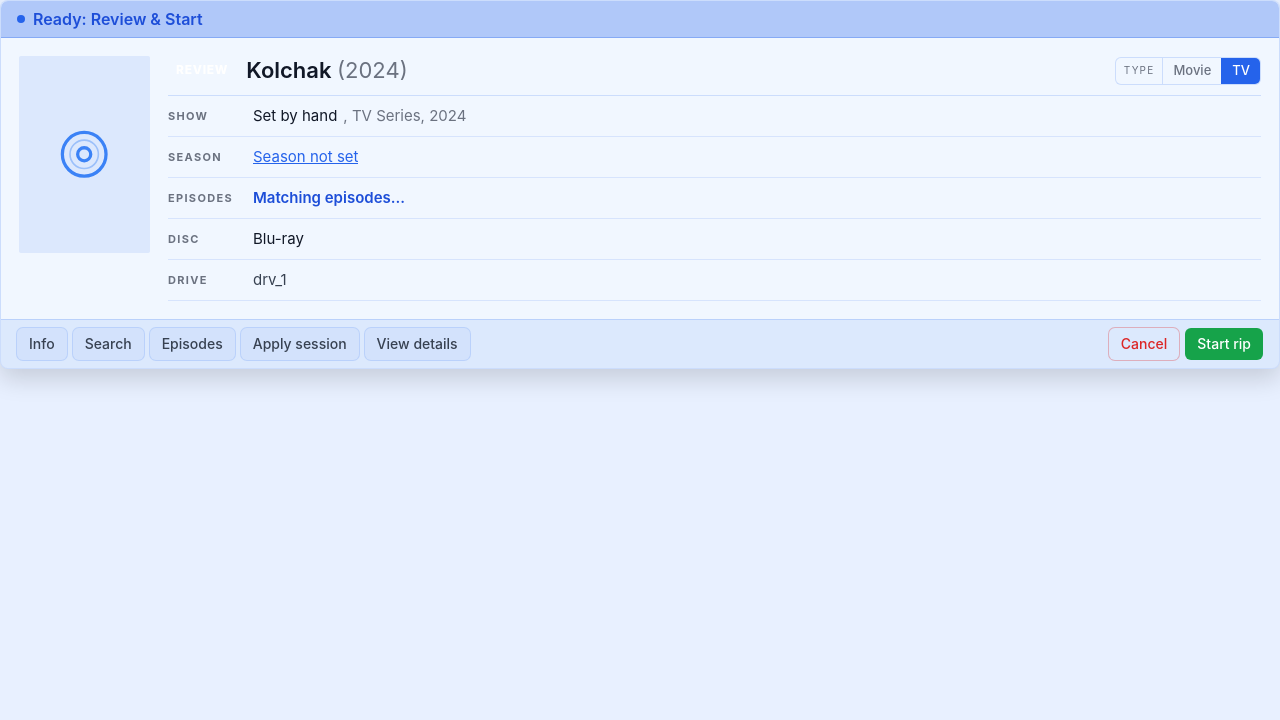
Test case: DiscReviewWidget episode matching › opens the episode panel, one section at a time
The image size is (1280, 720).
Click the button "Info" at (42, 344), box [17,328,67,360]
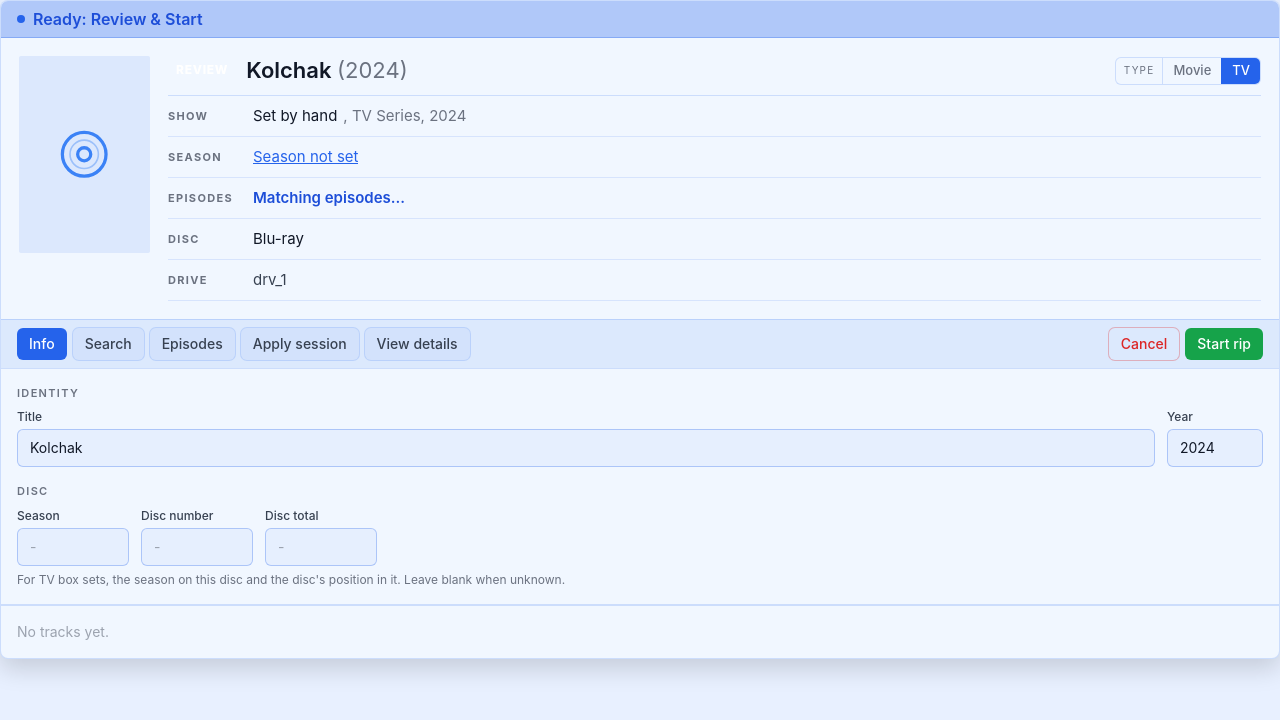
Click the button "Episodes" at (192, 344), box [150,328,235,360]
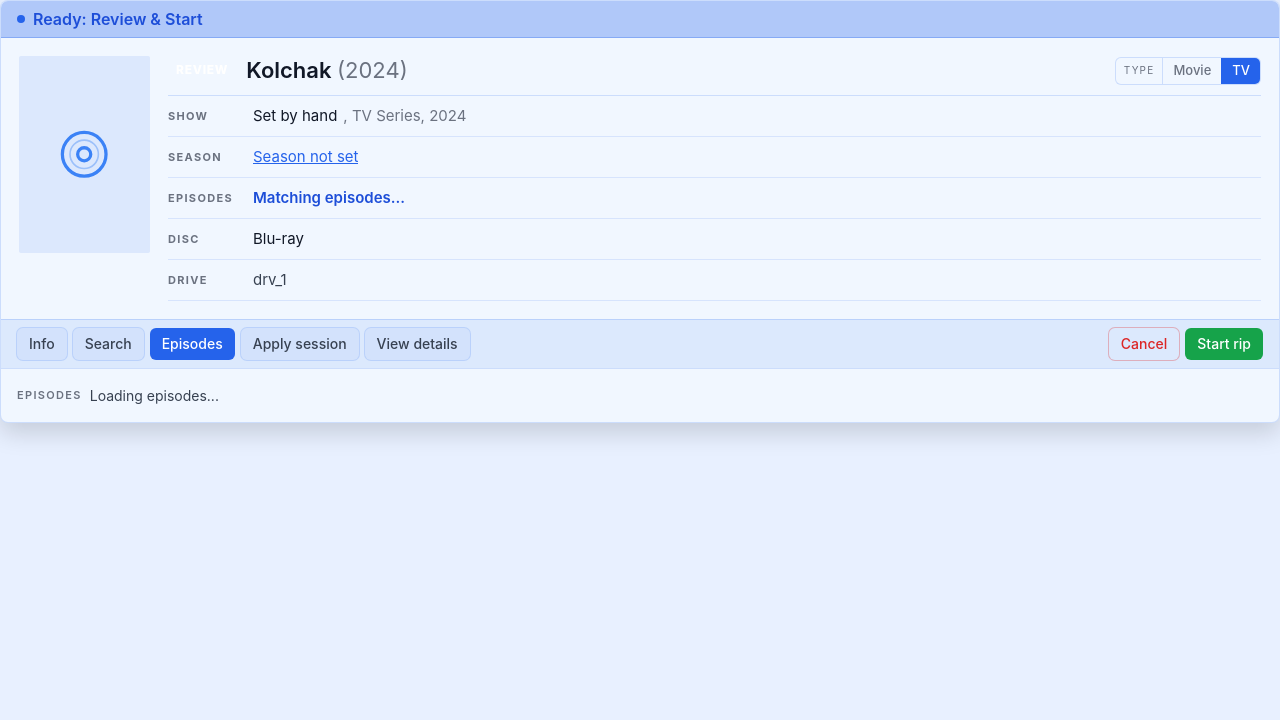
Now the element named "Match episodes" is shown, box [17,386,219,404]
Click the button "Episodes" at (192, 344), box [150,328,235,360]
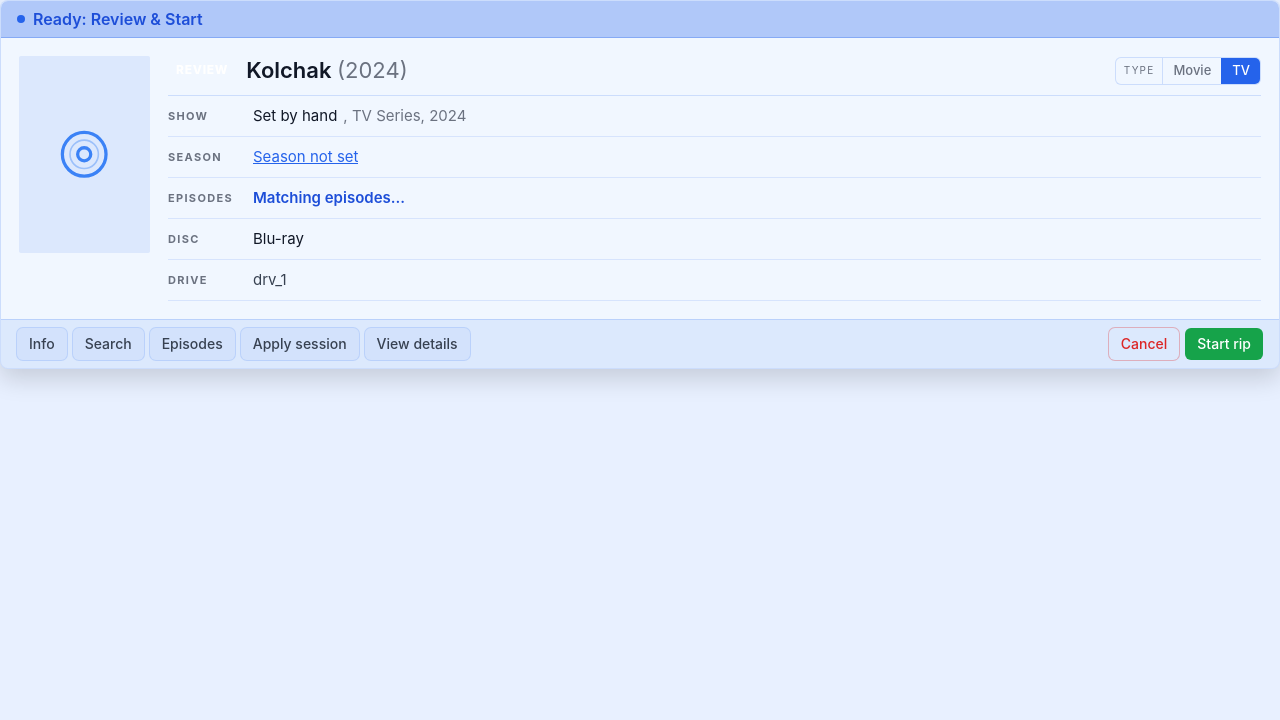
Now the element with test id "episode-panel" is gone
